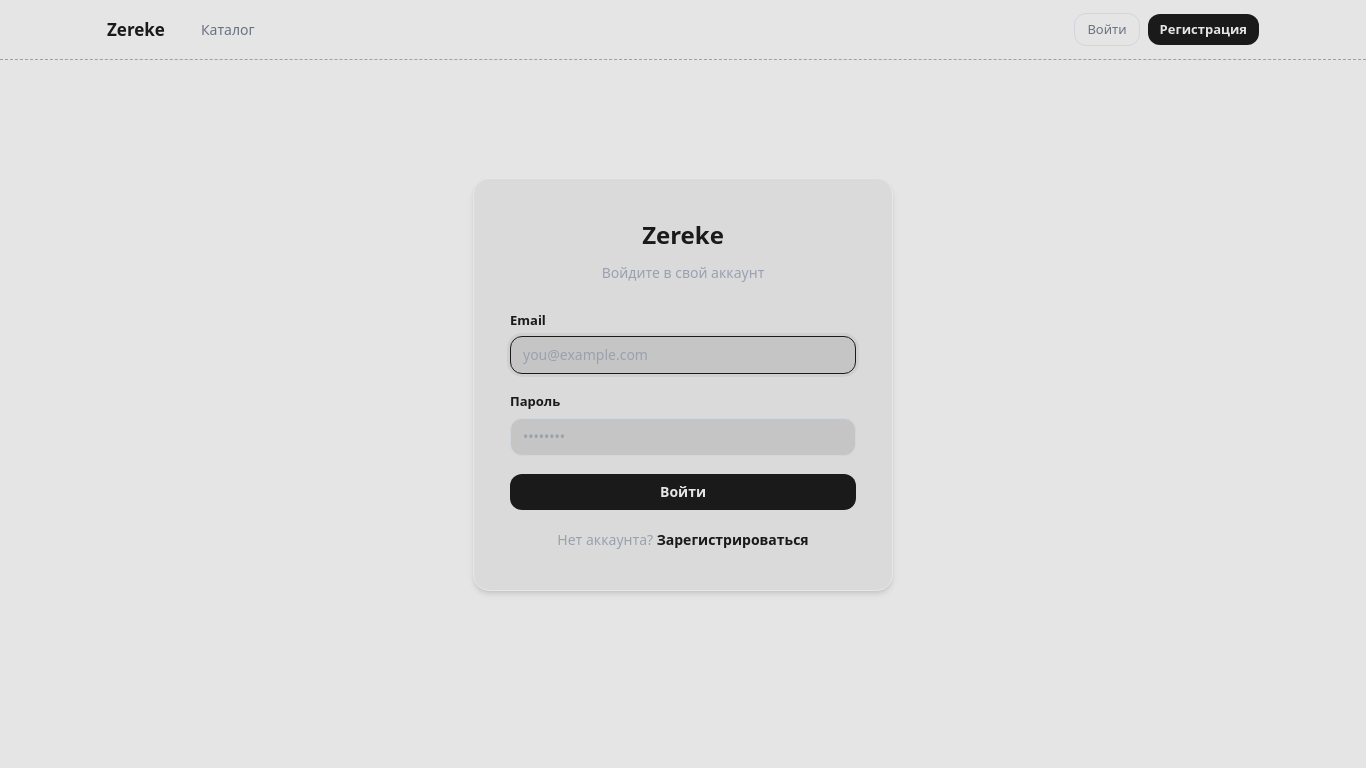
Scenario: LoginPage › shows error message on failed login
Type "bad@test.com" into the field labelled "Email" at (683, 355), box [510,336,856,374]
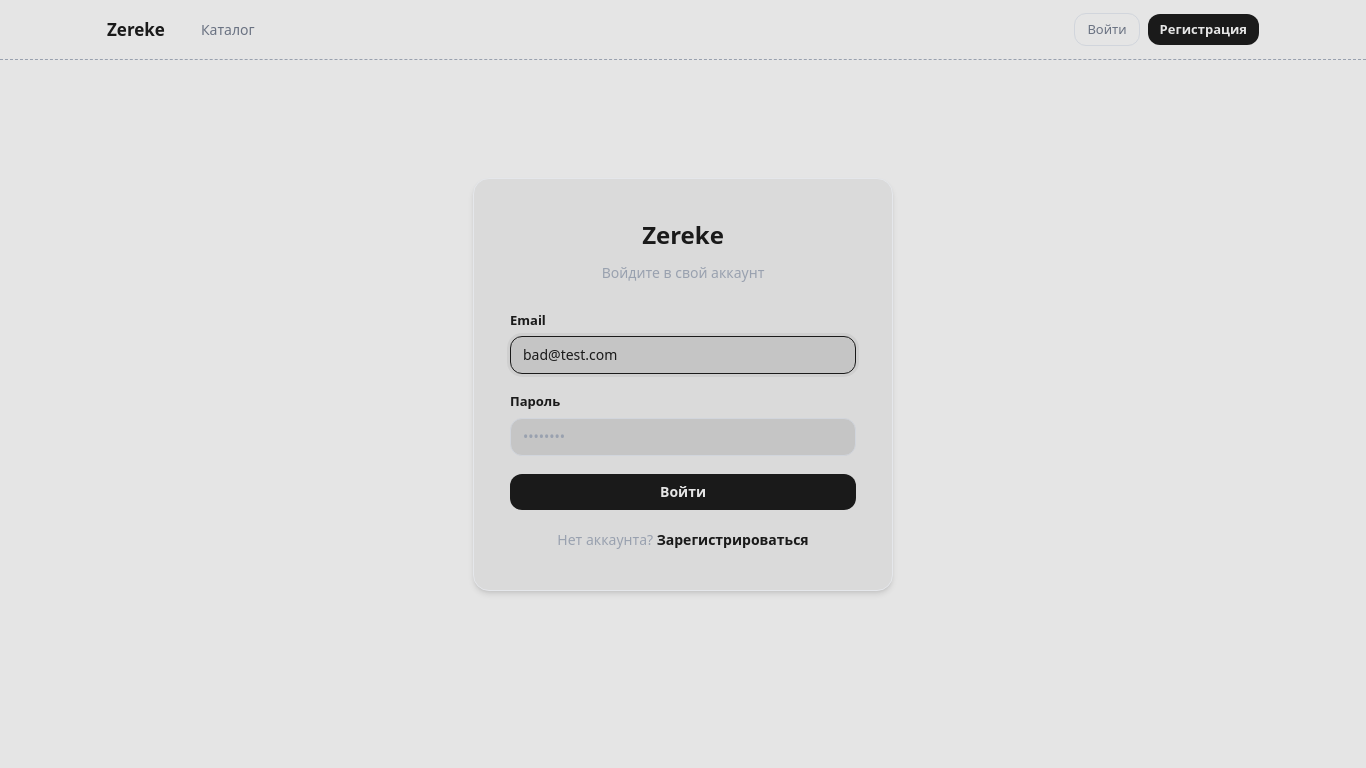
Type "wrongpass" into the password field labelled "Пароль" at (683, 436), box [510,418,856,456]
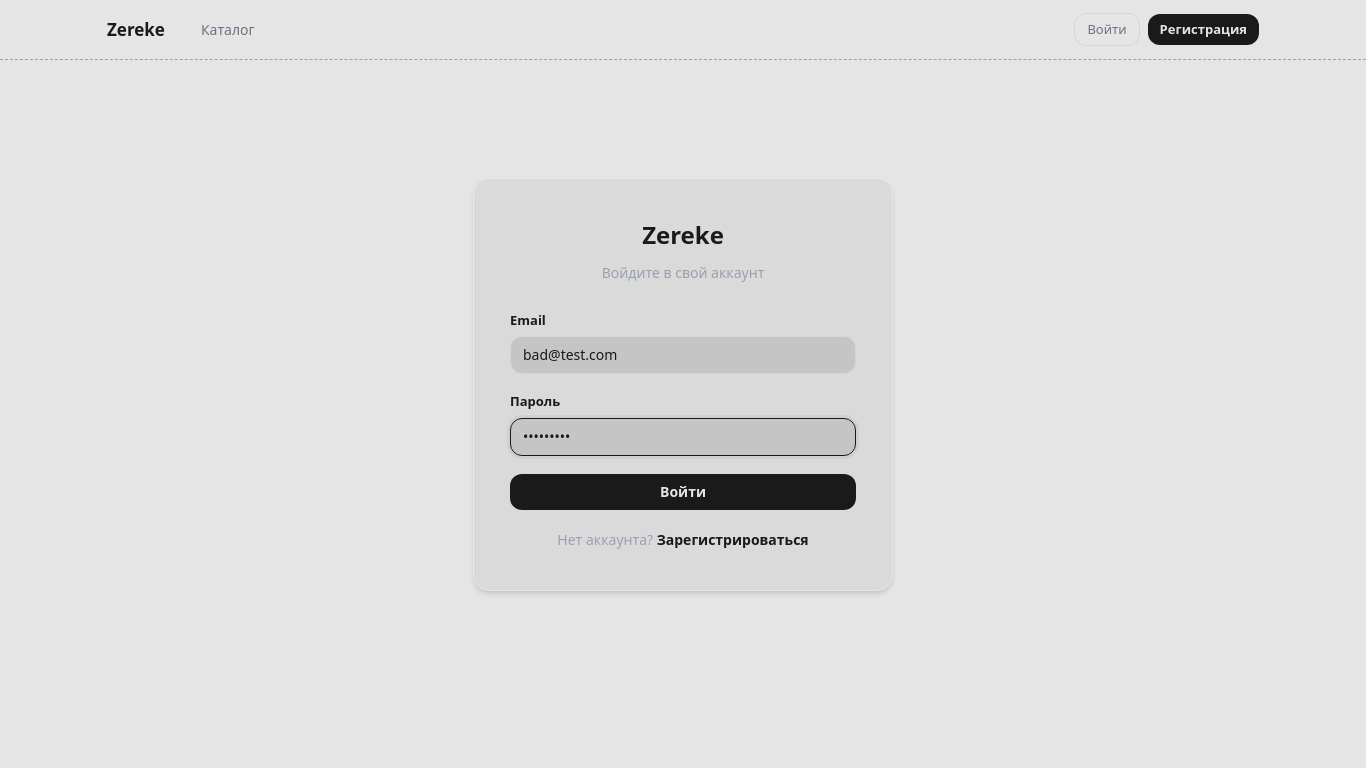
Click the button "Войти" at (683, 492), box [510,474,856,510]
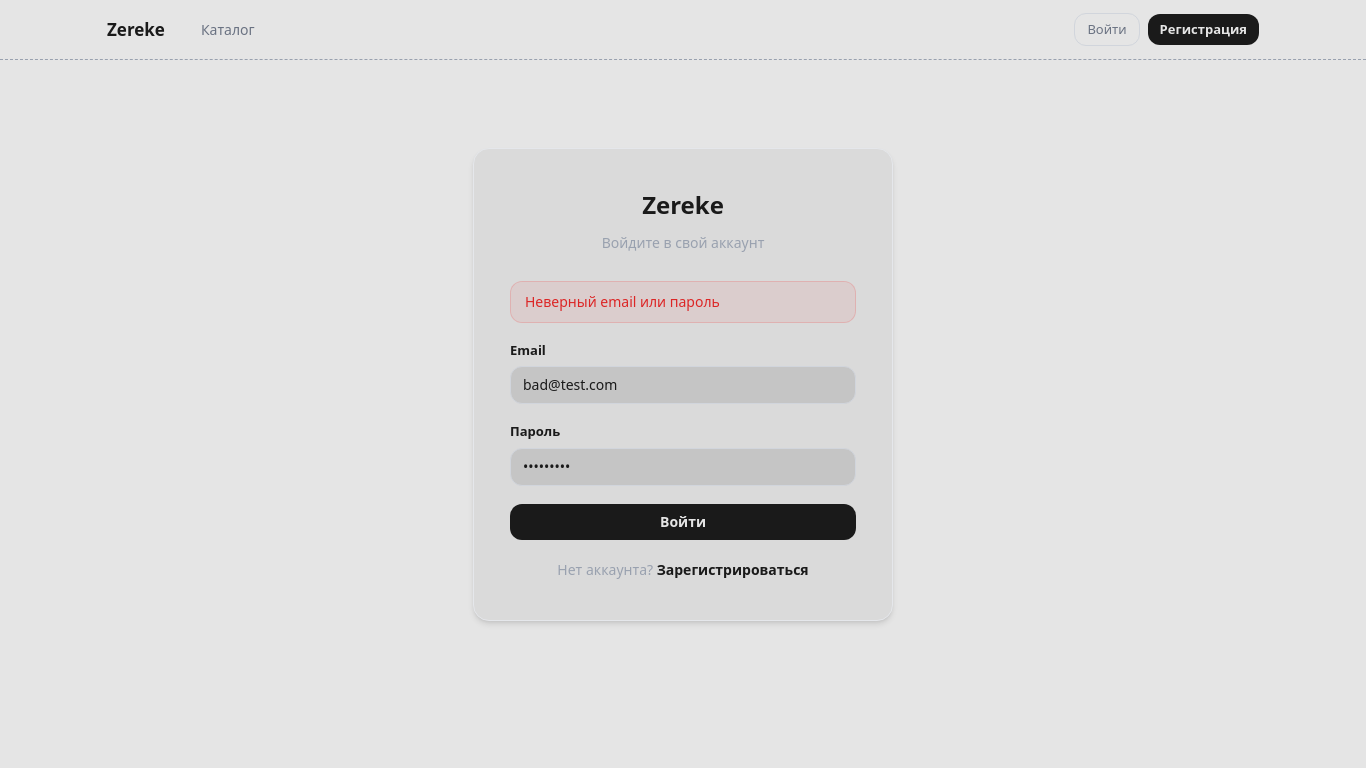
Check: the text "Неверный email или пароль" is shown, box [510,280,856,322]
